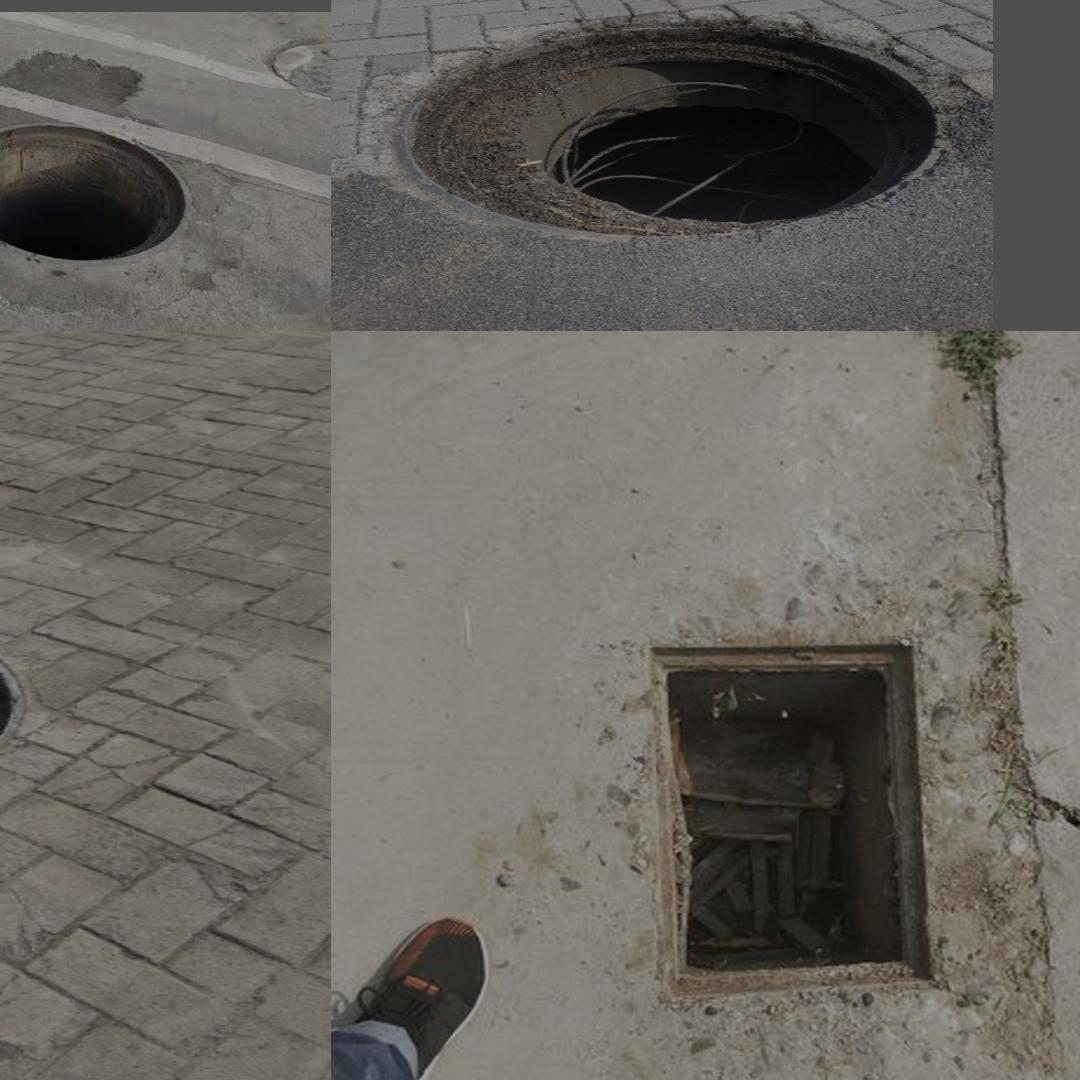lose: (579, 606, 1017, 1044), (390, 23, 942, 238), (0, 119, 194, 270), (0, 615, 26, 812)
